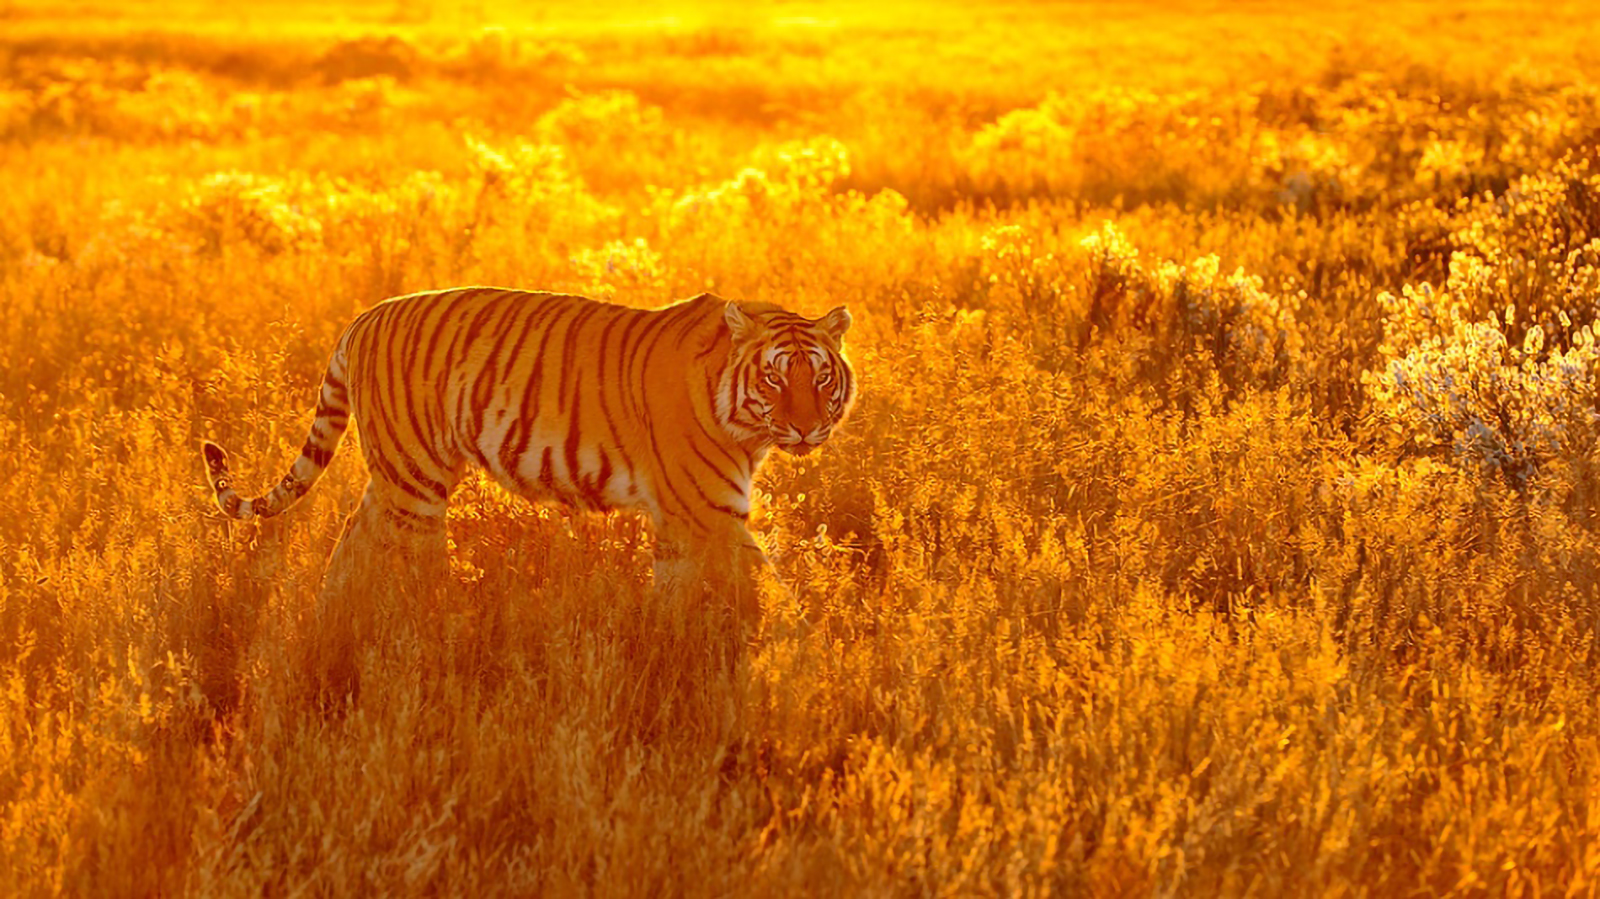tiger: (219, 263, 857, 589)
